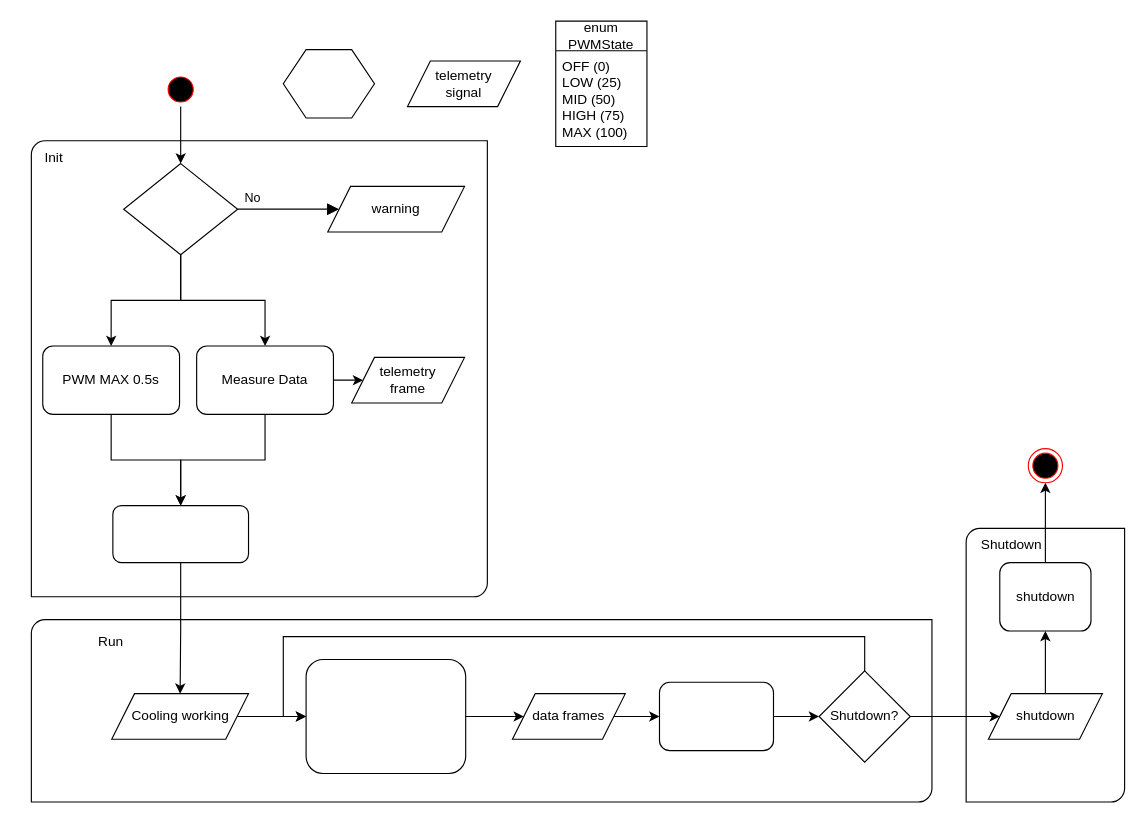
Some shapes in this 1145 by 822 pixel diagram are drawn without their labels. The shapes that lost their labels are listed below. From the top down, each one's centre as x and y in pixels, then its label:
(328,83): user input
(180,208): flowmeter ~ 0
(180,533): PWM LOW
(385,715): Measure Temperature of Battery, Motor, Atmos. Fluid Temp, Pressure, Flow
(715,716): update PWM
